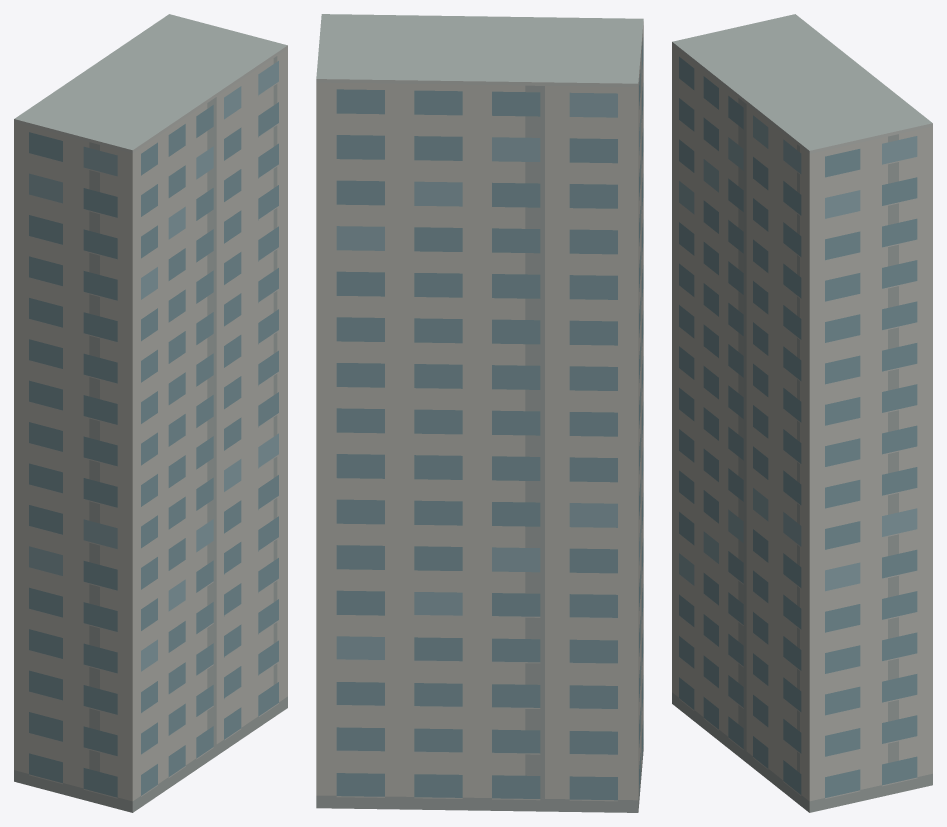
Rendered from residential-73f0ef4d-dc00-4d8b-af2f-a4f72f1da1e6.glb.
3 renders of one model, left to right at view 1: azimuth 30°, elevation 25°; view 2: azimuth 150°, elevation 25°; view 3: azimuth 270°, elevation 25°, orthographic. The views are drawn at different scales.
Visible parts, largest first — view 1: residential-73f0ef4d-dc00-4d8b-af2f-a4f72f1da1e6.tmp; view 2: residential-73f0ef4d-dc00-4d8b-af2f-a4f72f1da1e6.tmp; view 3: residential-73f0ef4d-dc00-4d8b-af2f-a4f72f1da1e6.tmp.
Boxes of the visible parts, bbox=[...] form: residential-73f0ef4d-dc00-4d8b-af2f-a4f72f1da1e6.tmp: bbox=[14, 14, 287, 812]; residential-73f0ef4d-dc00-4d8b-af2f-a4f72f1da1e6.tmp: bbox=[316, 14, 643, 812]; residential-73f0ef4d-dc00-4d8b-af2f-a4f72f1da1e6.tmp: bbox=[672, 14, 932, 812].
Size of the model in its own units: 21.73 by 49 by 17.5.
